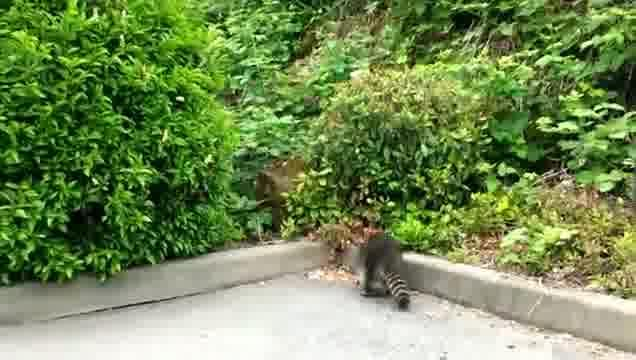raccoon: (357, 236, 415, 311)
